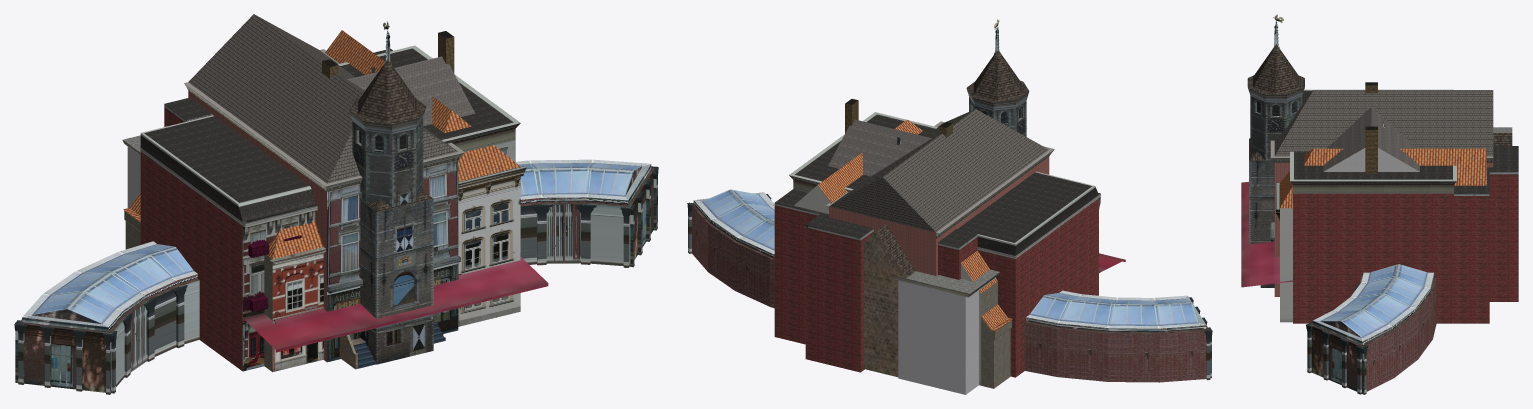
The model's file is euro.glb.
3 views of the same model, side by side, from view 1: azimuth 30°, elevation 25°; view 2: azimuth 150°, elevation 25°; view 3: azimuth 270°, elevation 25° (orthographic). The views are drawn at different scales.
Visible parts, largest first — view 1: euro2, euro1, euro6, euro5, euro4, euro3; view 2: euro2, euro1, euro6, euro3, euro5, euro4; view 3: euro2, euro1, euro6, euro5, euro4, euro3.
Boxes of the visible parts, x1,y1,x2,y2 form: euro2: (140,45,548,371); euro1: (14,159,658,394); euro6: (184,14,464,362); euro5: (339,21,445,369); euro4: (123,30,526,372); euro3: (122,31,475,207); euro2: (774,112,1125,377); euro1: (687,189,1212,382); euro6: (825,109,1054,275); euro3: (828,99,999,394); euro5: (864,19,1029,377); euro4: (794,119,1012,388); euro2: (1241,89,1518,323); euro1: (1306,264,1436,394); euro6: (1270,90,1493,296); euro5: (1247,14,1512,287); euro4: (1276,148,1486,322); euro3: (1323,82,1512,173).
Bounding box in the file's own units: 41.19 × 19.88 × 19.5.
90 materials, 89 textured.
